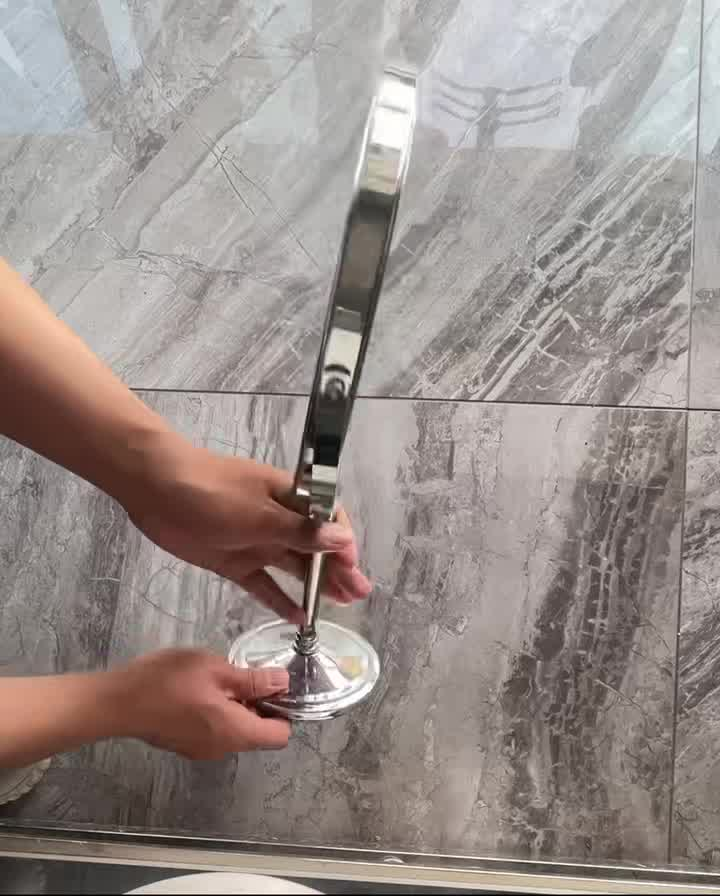base: (231, 605, 392, 724)
frame: (276, 321, 426, 634)
mirror: (287, 51, 442, 504)
